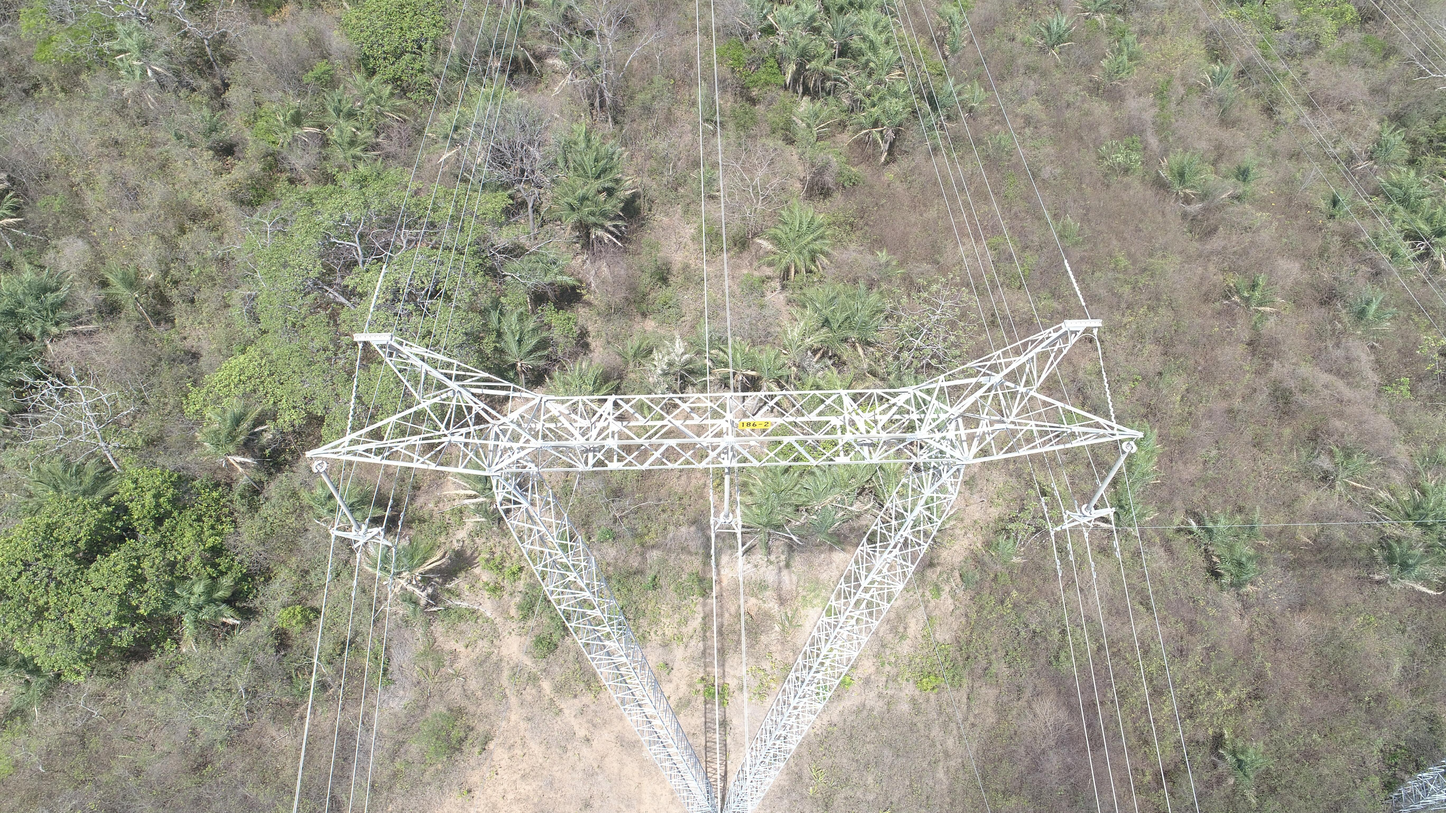power_tower: (299, 317, 1147, 813)
